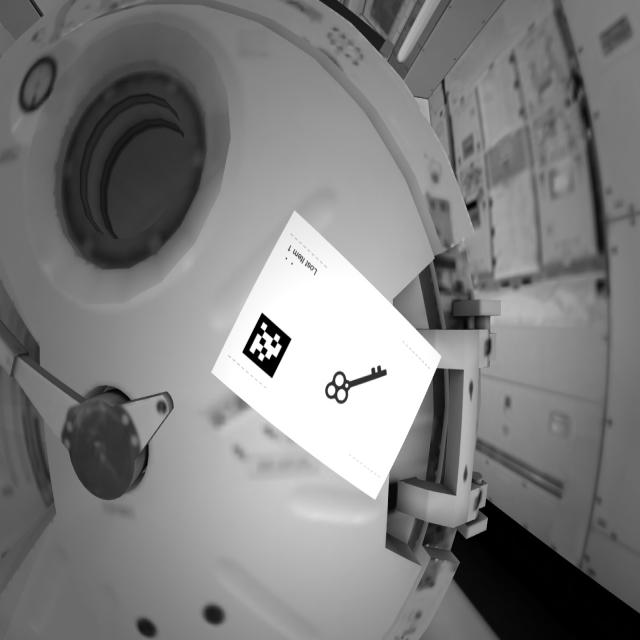key: (321, 349, 393, 410)
